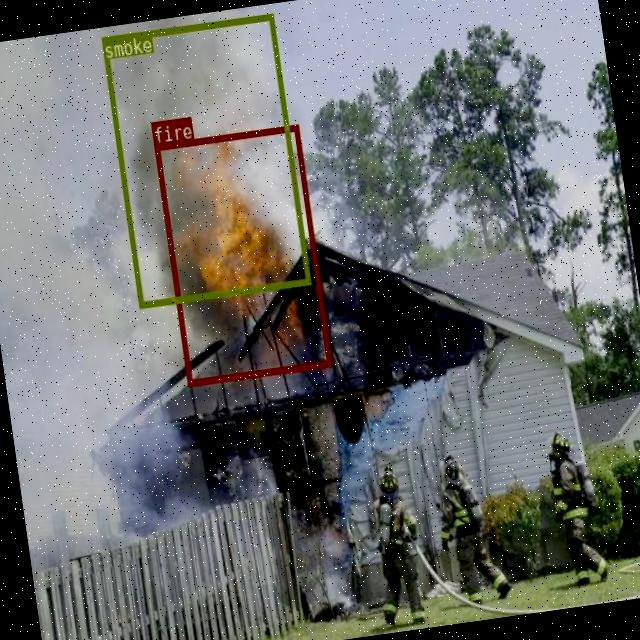fire: (153, 124, 332, 386)
smoke: (101, 12, 310, 308)
